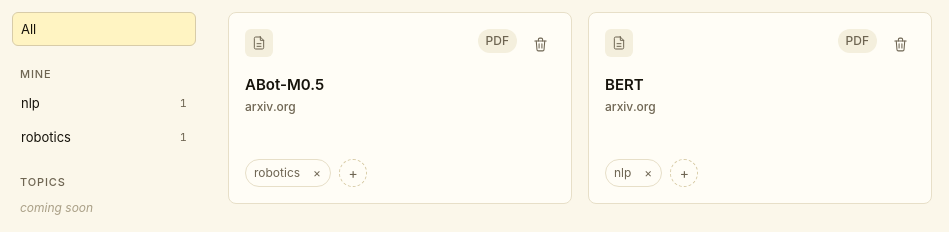
Test: LibraryList › filters by a Mine tag entry and resets with All
Click the button "nlp 1".
click(104, 103)  # box [12,86,196,120]
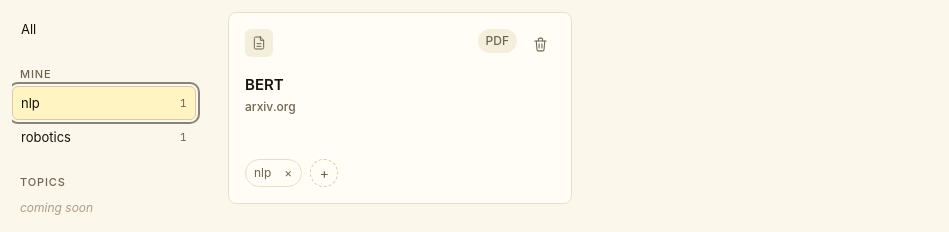
Expected: the link "BERT" is shown, [245,75,284,94]
Expected: the link "ABot-M0.5" is gone
Click the button "All".
click(104, 29)  # box [12,12,196,46]
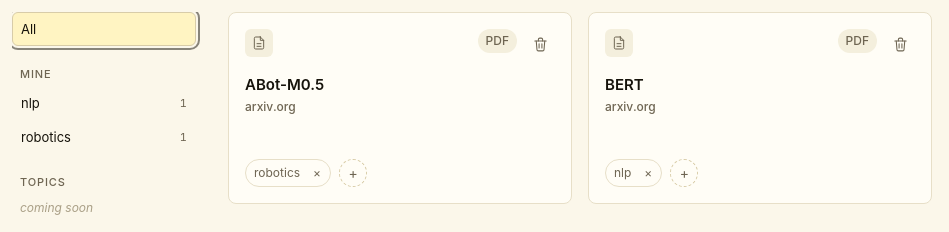
Expected: the link "ABot-M0.5" is shown, [245,75,324,94]
